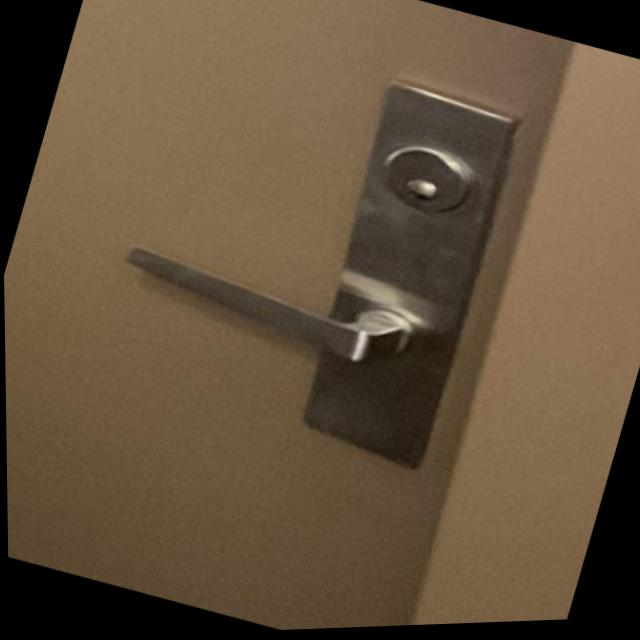door_handle: (84, 184, 471, 420)
